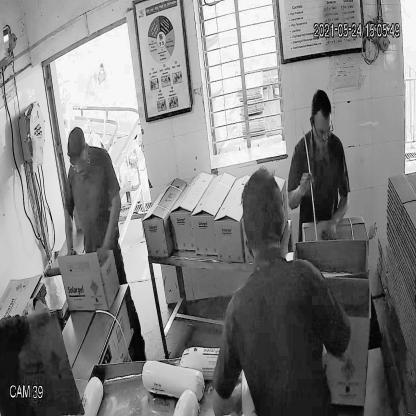goggles: (310, 115, 336, 143), (68, 154, 88, 172)
